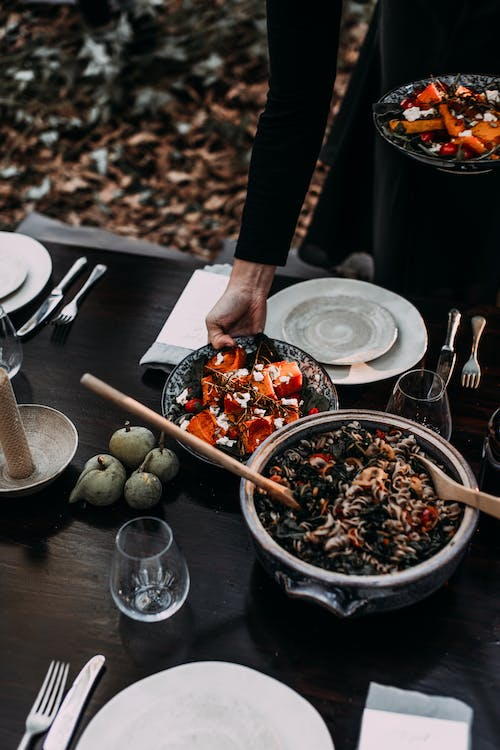knife: (39, 651, 106, 750), (13, 253, 90, 339), (426, 307, 464, 401)
